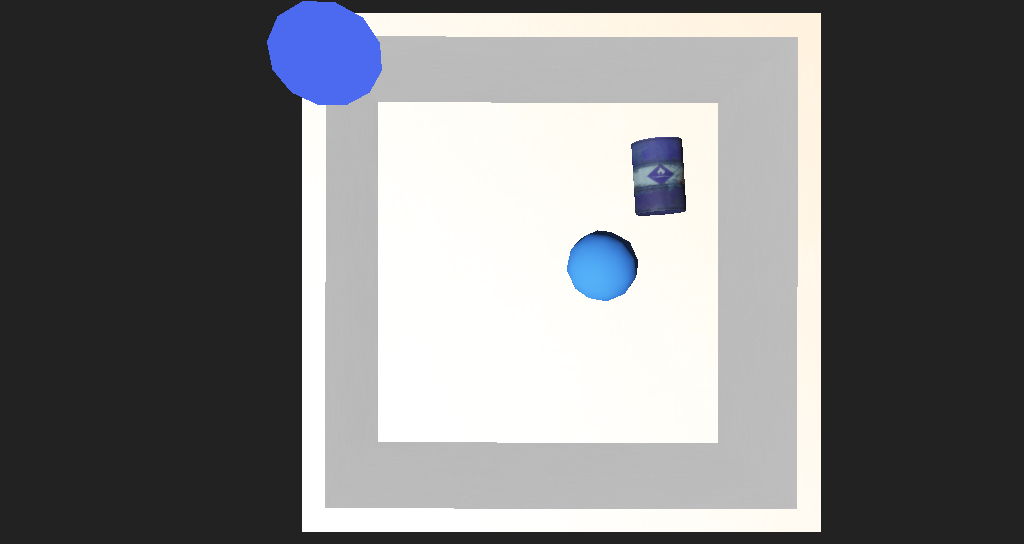cone: (576, 184, 637, 236)
cylinder: (216, 57, 377, 181)
sphere: (519, 239, 586, 286)
